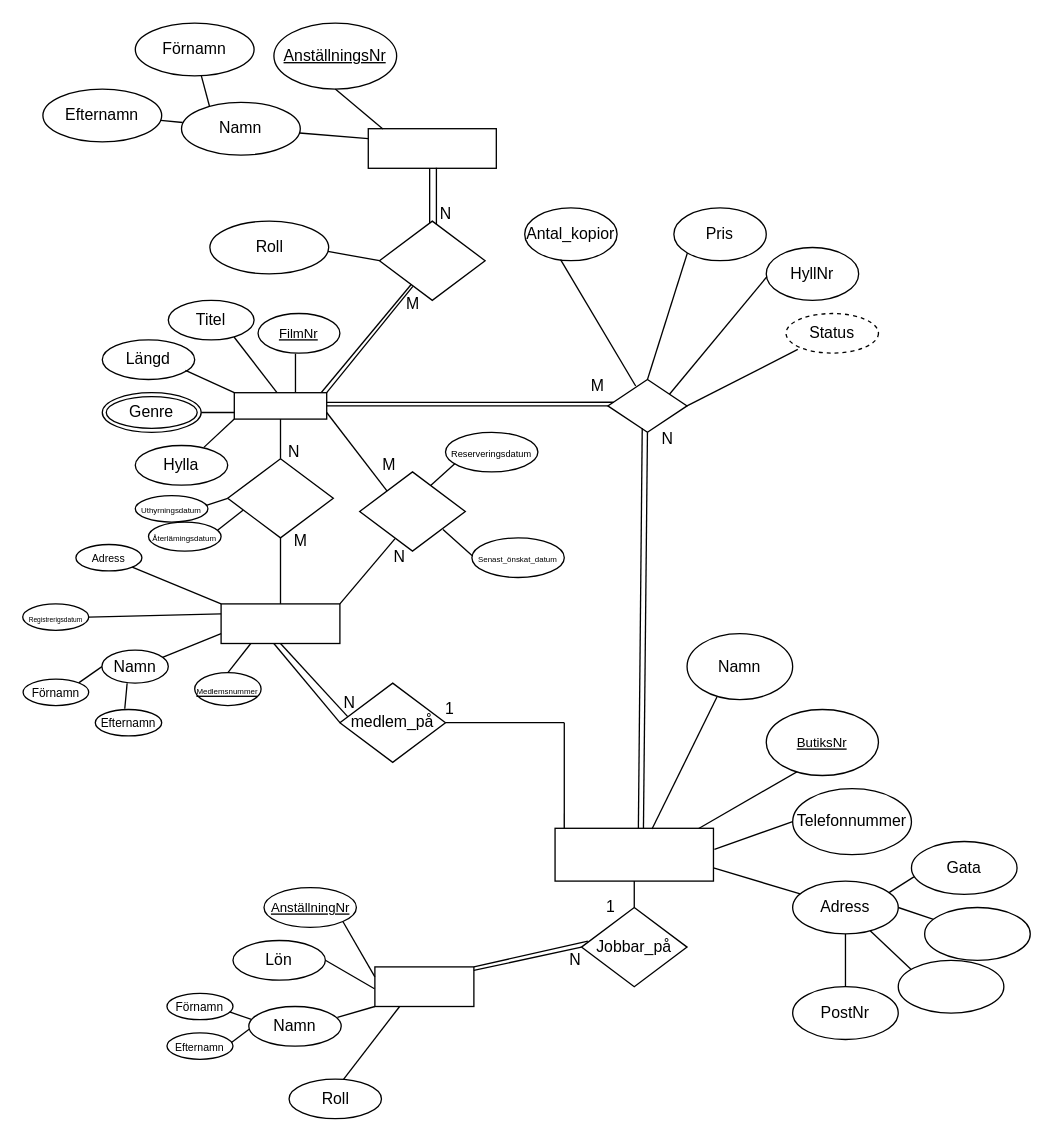
Some shapes in this 1055 by 1142 pixel diagram are drawn without their labels. Each missing label, with the centre of its shape:
"Anställd" goes at point 424,986.
"Arbetar_på" goes at point 431,260.
"Butik" goes at point 633,854.
"Film" goes at point 280,405.
"Filmskapare" goes at point 431,147.
"Har" goes at point 647,405.
"HusNr" goes at point 950,986.
"Hyra" goes at point 279,497.
"Medlem" goes at point 280,623.
"Reservera" goes at point 411,511.
"Stad" goes at point 976,933.
